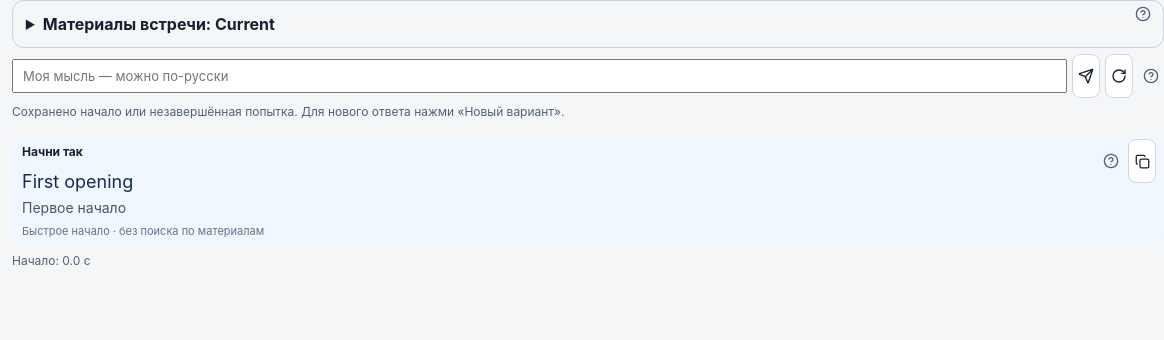
Test: restores an interrupted opening and preserves old attempts on explicit regeneration
Expected: the text "First opening" is shown, x1=22 y1=171 x2=133 y2=192
Expected: the text "Ответ по материалам" is not shown
What coordinates should you click on to do the following:
click the button named "Новый вариант"
I would click on:
 (1119, 76)
Its box is x1=1105 y1=54 x2=1133 y2=98.
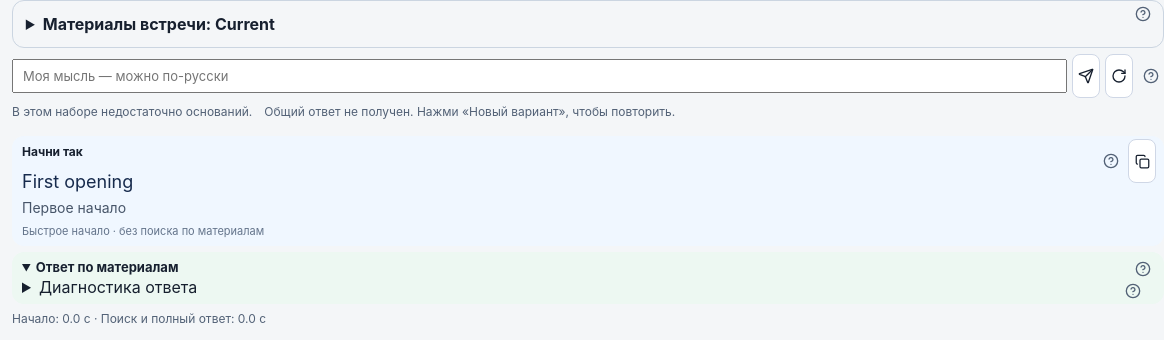
Expected: the heading "Ответ по материалам" is shown, x1=36 y1=259 x2=178 y2=275
